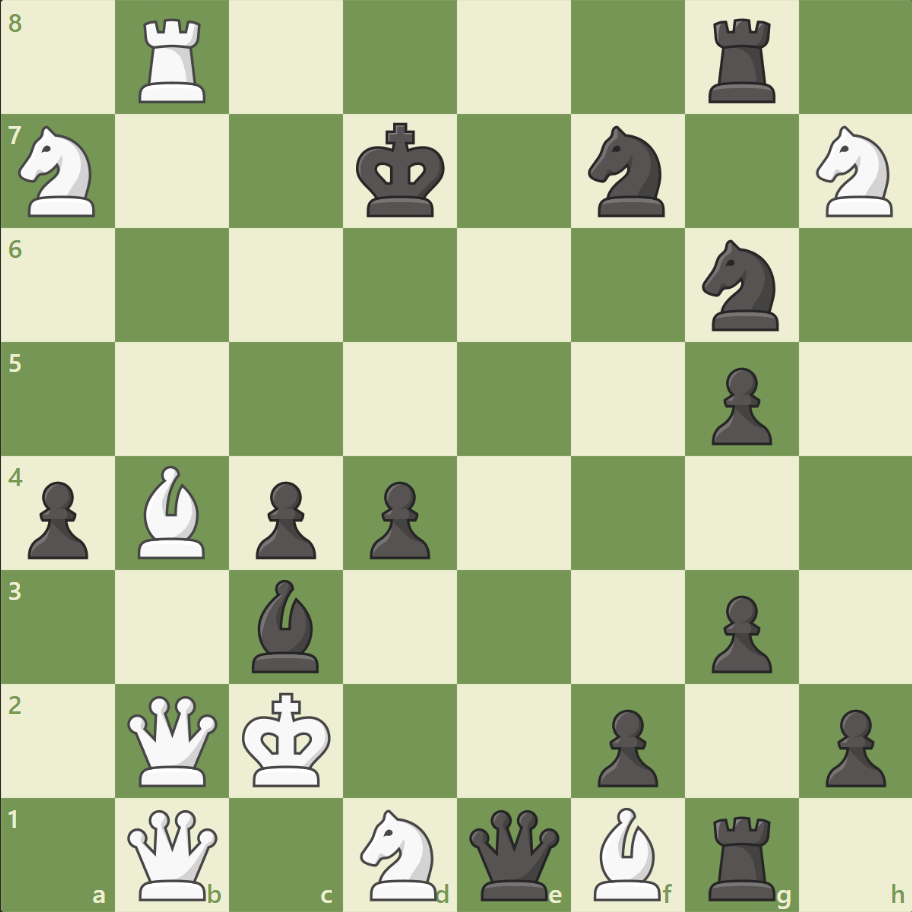B: (131, 460, 215, 563), (585, 801, 669, 904)
K: (238, 685, 338, 793)
N: (351, 802, 449, 904), (11, 121, 108, 223), (806, 121, 903, 223)
Q: (124, 690, 223, 789), (124, 804, 223, 903)
R: (133, 12, 215, 109)
b: (244, 574, 328, 676)
k: (351, 117, 451, 225)
n: (692, 234, 789, 337), (579, 121, 676, 223)
p: (701, 359, 776, 450), (20, 473, 95, 564), (247, 473, 322, 564), (701, 586, 776, 677), (361, 473, 435, 564), (588, 700, 662, 791), (815, 700, 889, 791)
q: (464, 804, 563, 903)
r: (700, 806, 783, 904), (700, 12, 783, 109)
